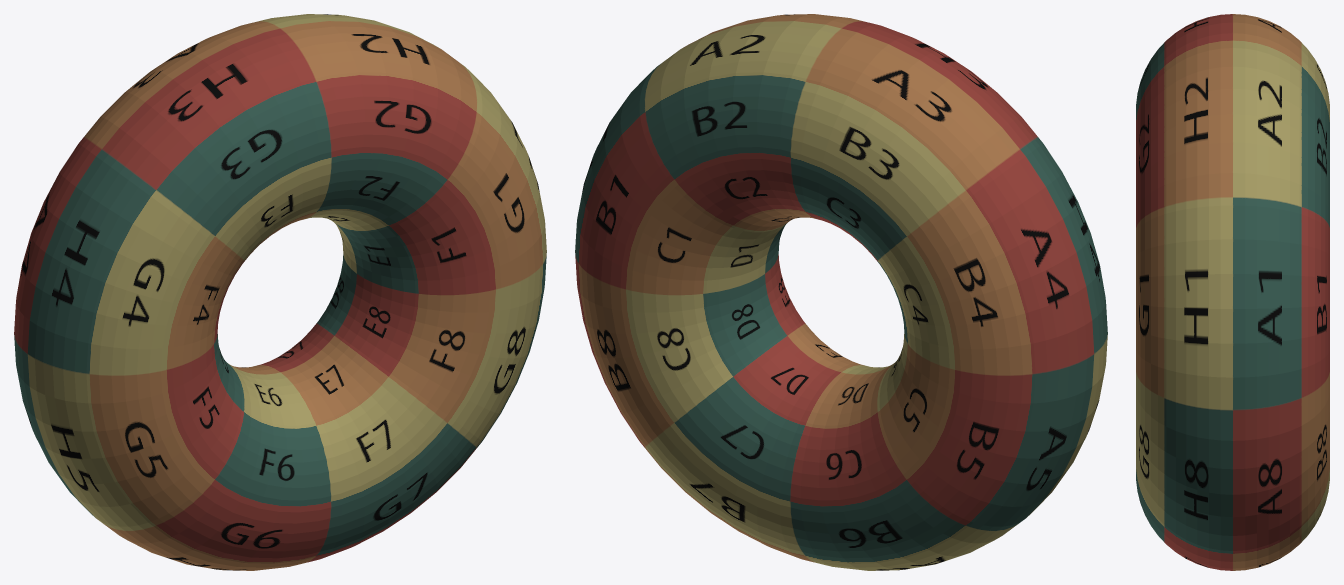
Rendered from texture_torus_R13_r30.glb.
The picture shows the model from 3 angles, left to right: view 1: azimuth 30°, elevation 25°; view 2: azimuth 150°, elevation 25°; view 3: azimuth 270°, elevation 25°; orthographic projection. The views are drawn at different scales.
Parts seen in each view (by area): view 1: world; view 2: world; view 3: world.
Part boxes in pixels (left/top/right/bottom): world: left=14, top=14, right=546, bottom=570; world: left=575, top=14, right=1107, bottom=570; world: left=1136, top=14, right=1329, bottom=570.
Bounding box in the file's own units: 28.67 × 28.61 × 9.98.
1 material, 1 textured.
